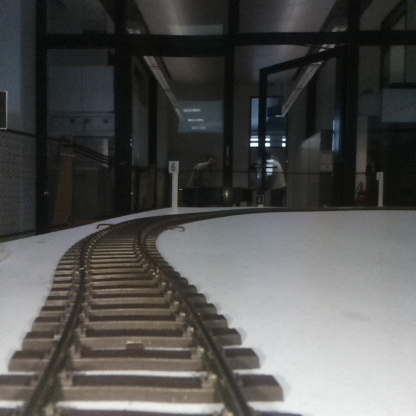white-info-6: (169, 161, 178, 213)
